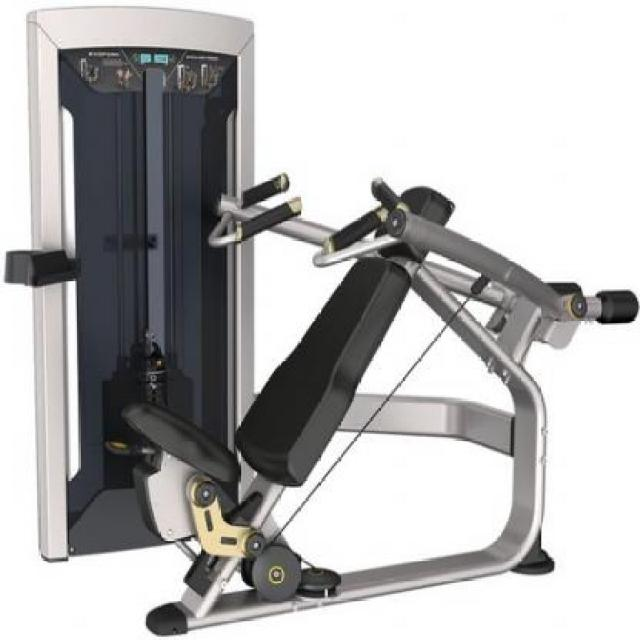shoulder press machine: (29, 7, 637, 636)
